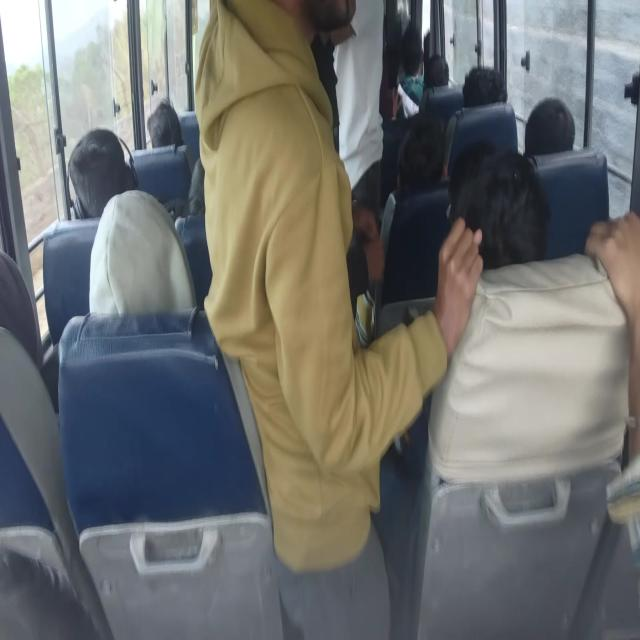person: (209, 0, 356, 380), (458, 160, 562, 294), (96, 191, 172, 340), (325, 0, 396, 157), (313, 0, 355, 136), (65, 132, 127, 222), (527, 96, 582, 165), (399, 122, 454, 186), (0, 260, 39, 350), (377, 44, 418, 113), (460, 66, 509, 120), (145, 90, 183, 153), (421, 46, 460, 102), (395, 0, 422, 72)
